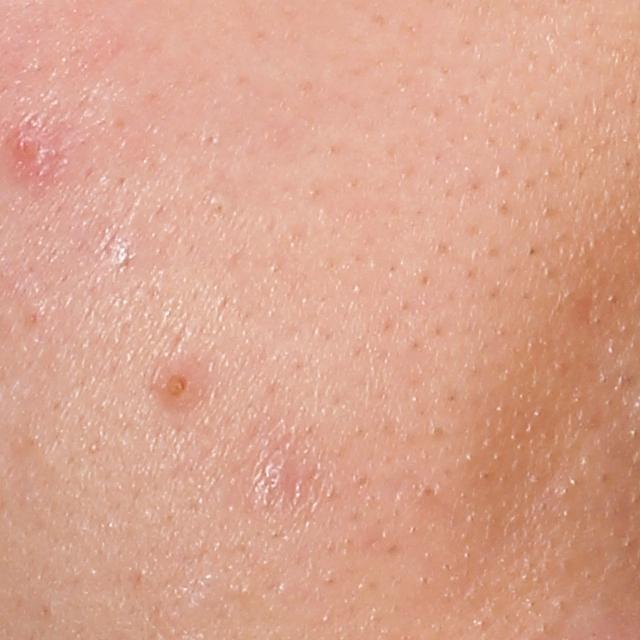papule: (0, 124, 57, 183), (154, 362, 205, 407)
